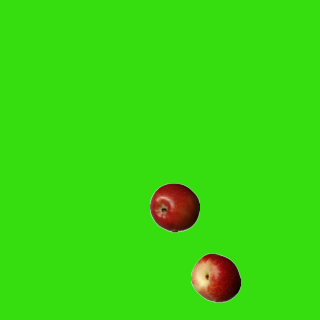Apple Braeburn: (149, 182, 199, 232)
Nectarine: (190, 252, 240, 302)
